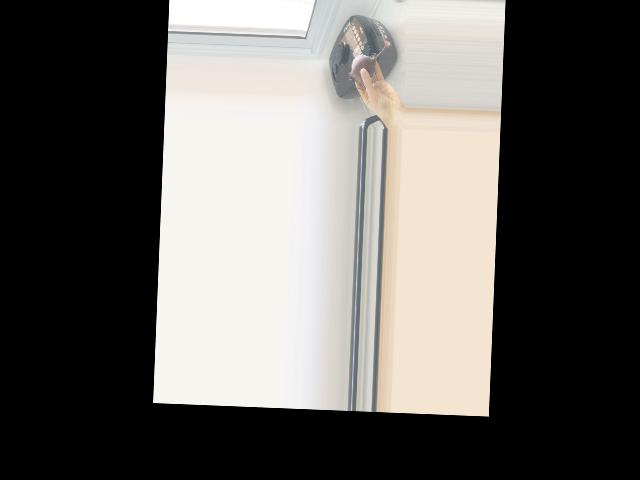beet: (348, 43, 386, 89)
